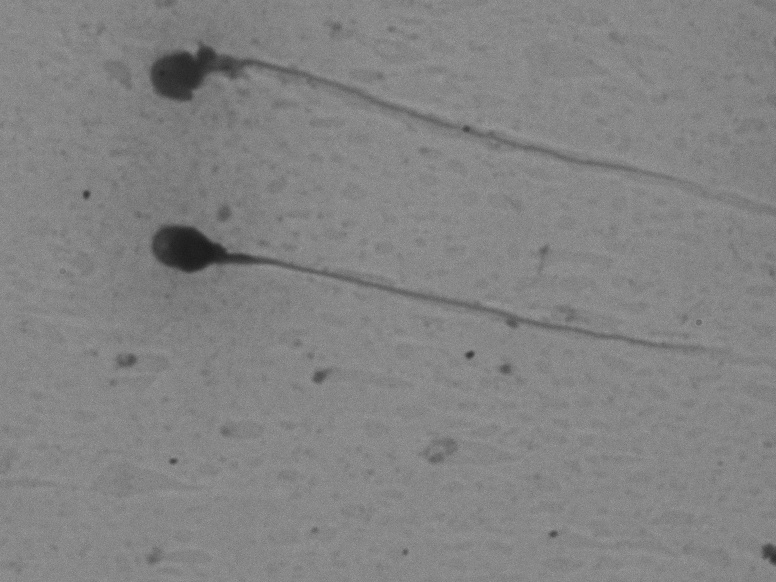Abnormal: (116, 200, 739, 402), (125, 21, 754, 220)
